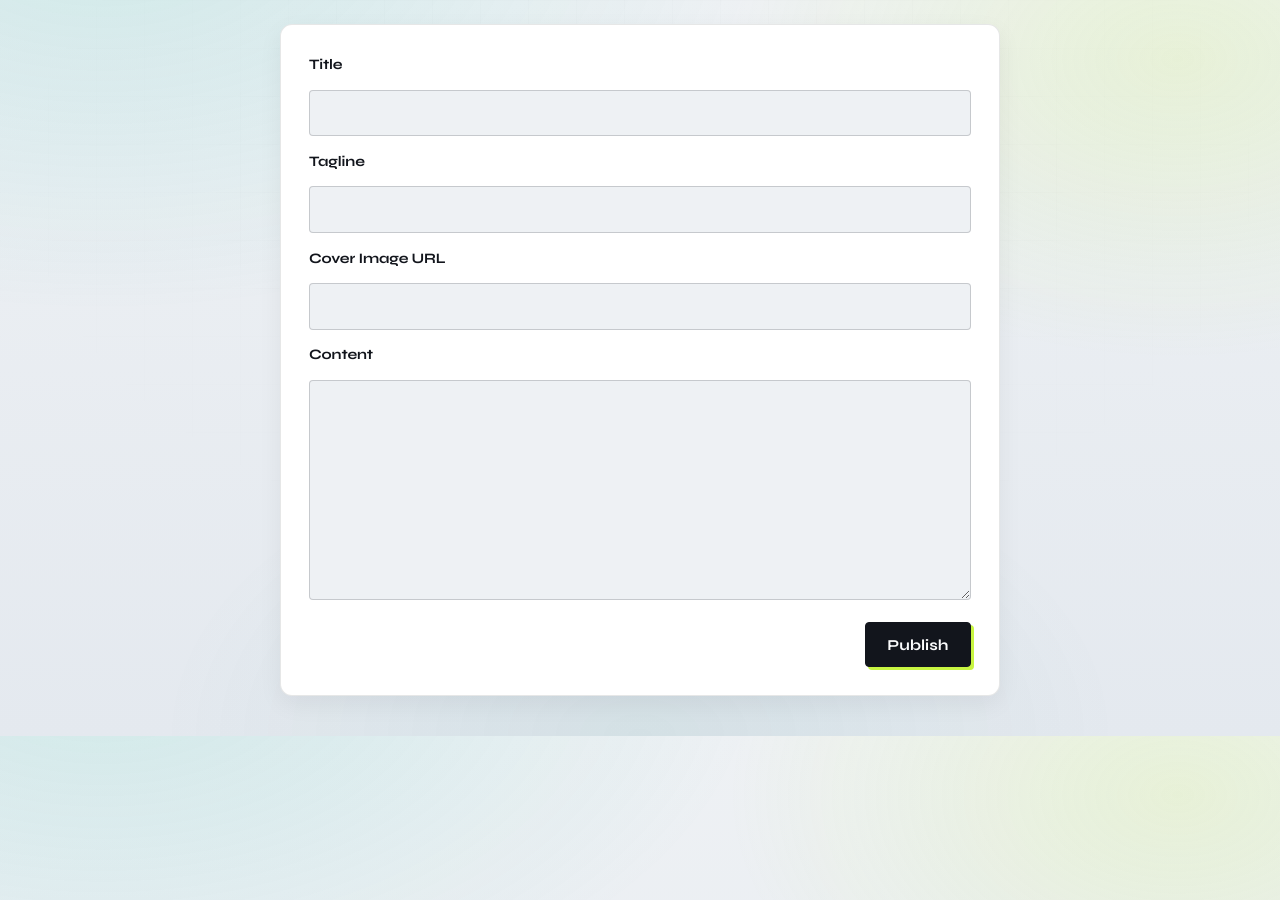
Test: does not submit when required fields are empty
Click the button "Publish". click: (918, 644)
box: left=865, top=622, right=971, bottom=667
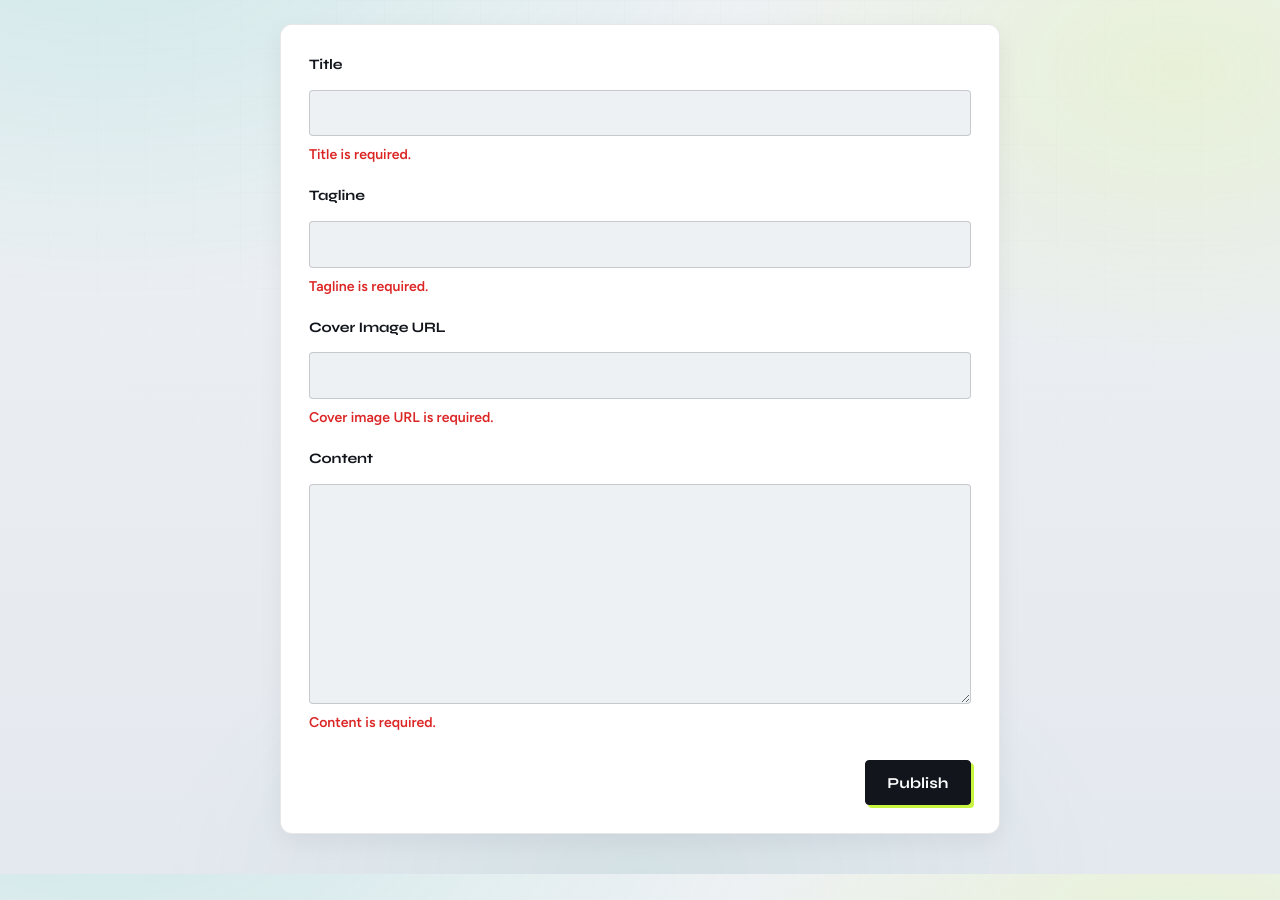
Expected: the text "Title is required." is shown, left=309, top=146, right=411, bottom=163
Expected: the text "Tagline is required." is shown, left=309, top=278, right=428, bottom=295
Expected: the text "Cover image URL is required." is shown, left=309, top=409, right=494, bottom=426
